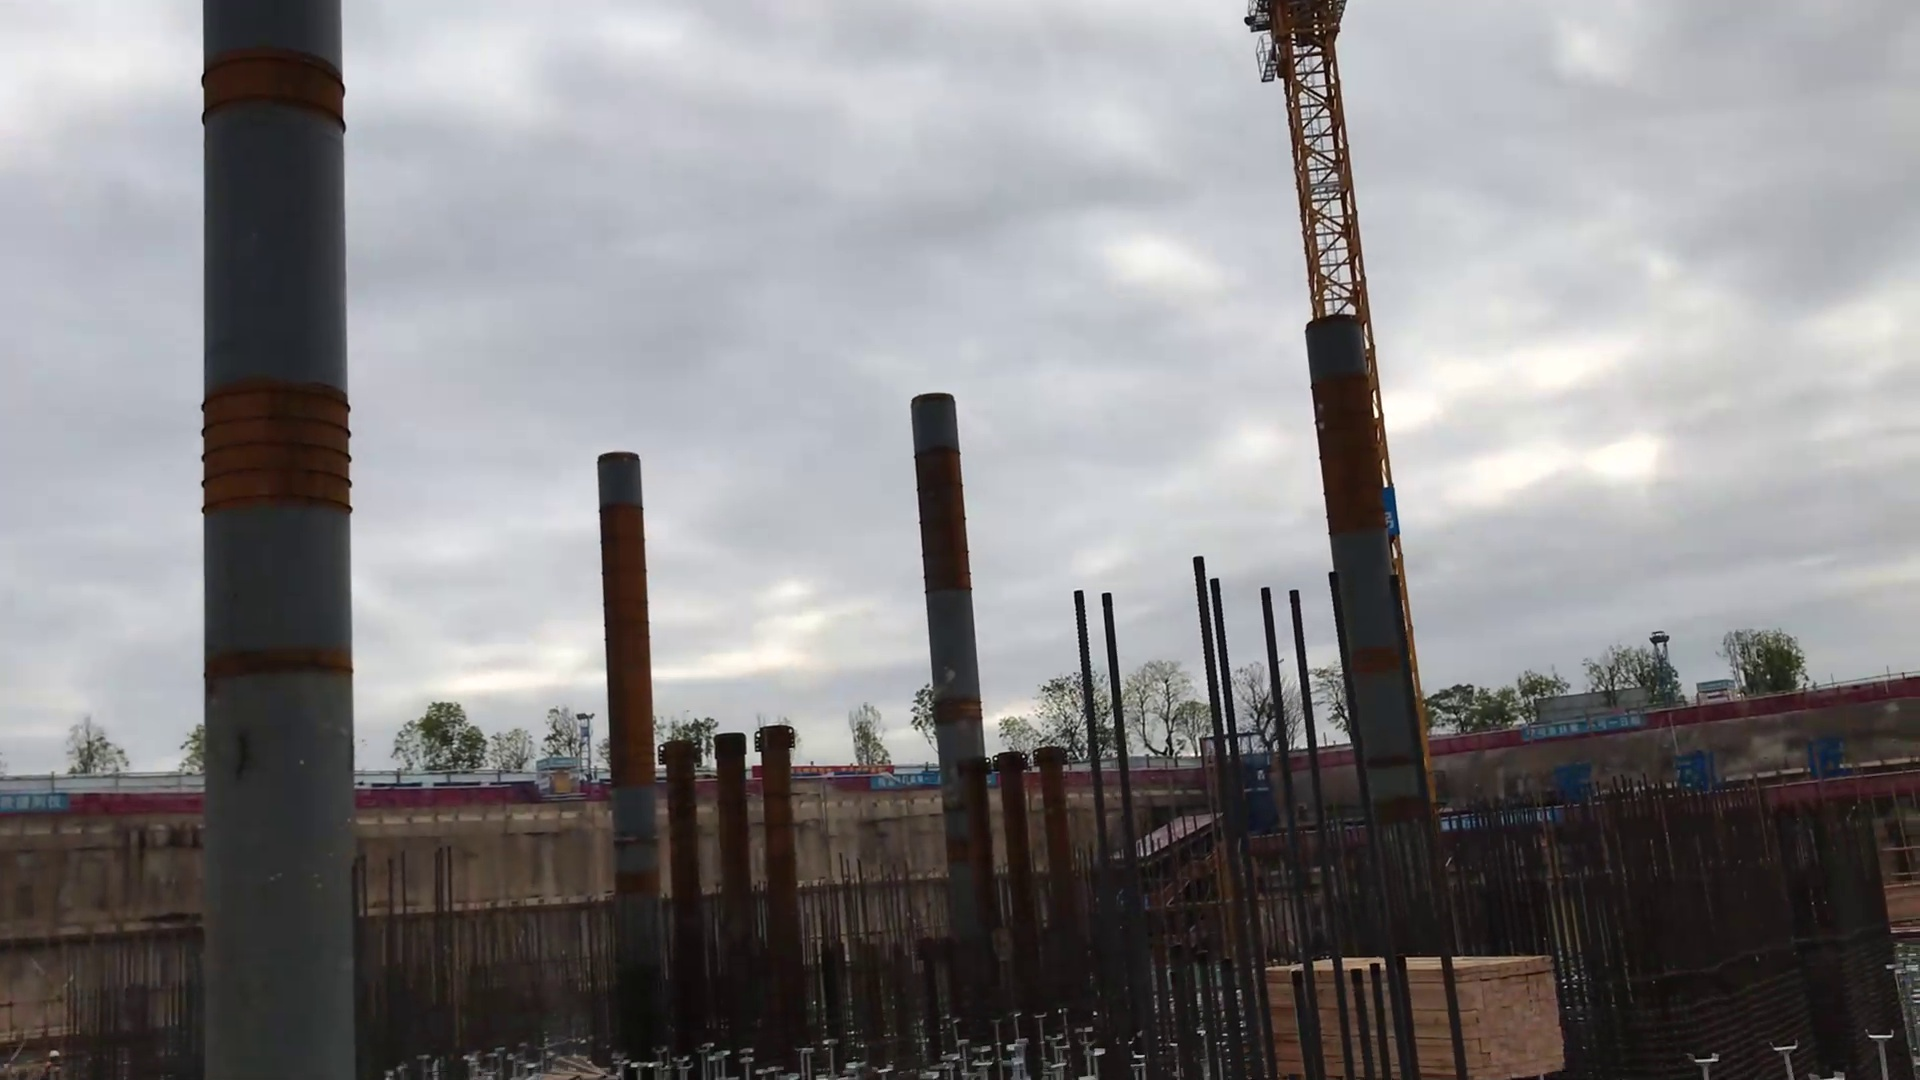wood: (1251, 916, 1586, 1080)
